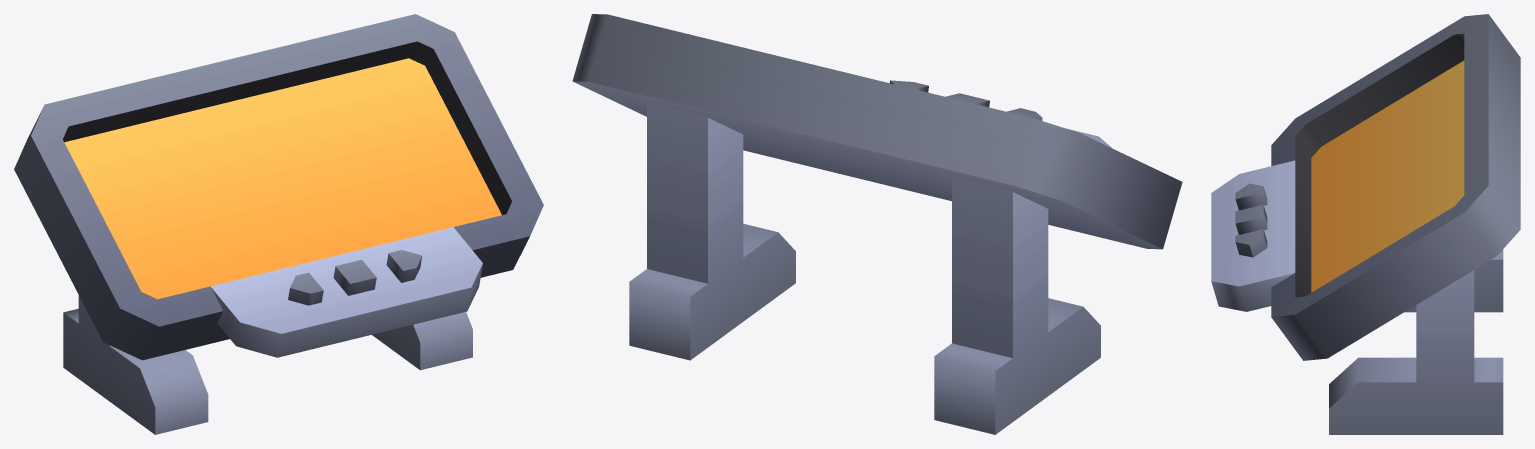
Rendered from station.computer_wide.glb.
3 renders of one model, left to right at view 1: azimuth 30°, elevation 25°; view 2: azimuth 150°, elevation 25°; view 3: azimuth 270°, elevation 25°, orthographic. The views are drawn at different scales.
Parts seen in each view (by area): view 1: computer-wide; view 2: computer-wide; view 3: computer-wide.
Boxes of the visible parts, x1,y1,x2,y2 form: computer-wide: (14, 14, 543, 434); computer-wide: (572, 14, 1182, 434); computer-wide: (1211, 14, 1520, 434).
Size of the model in its own units: 1.38 by 0.8582 by 0.9209.
Materials: 1 (1 with a texture image).
